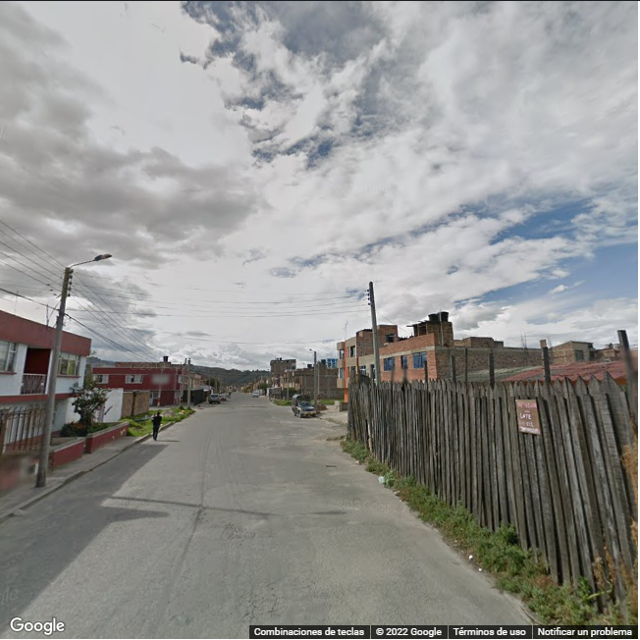D00: (298, 534, 319, 590), (238, 604, 249, 638), (268, 577, 275, 619)
